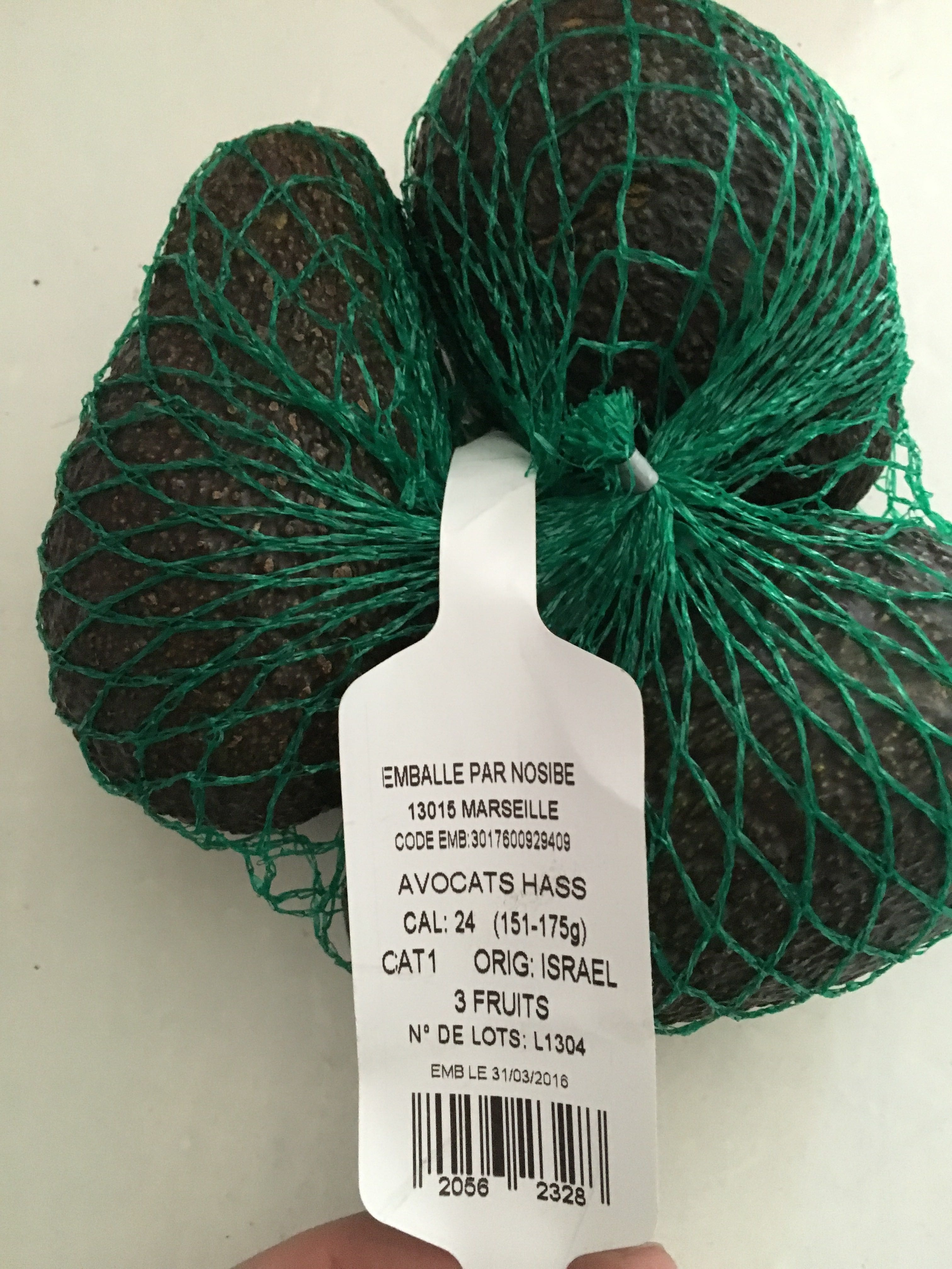Avocats Hass: (48, 63, 904, 1206)
